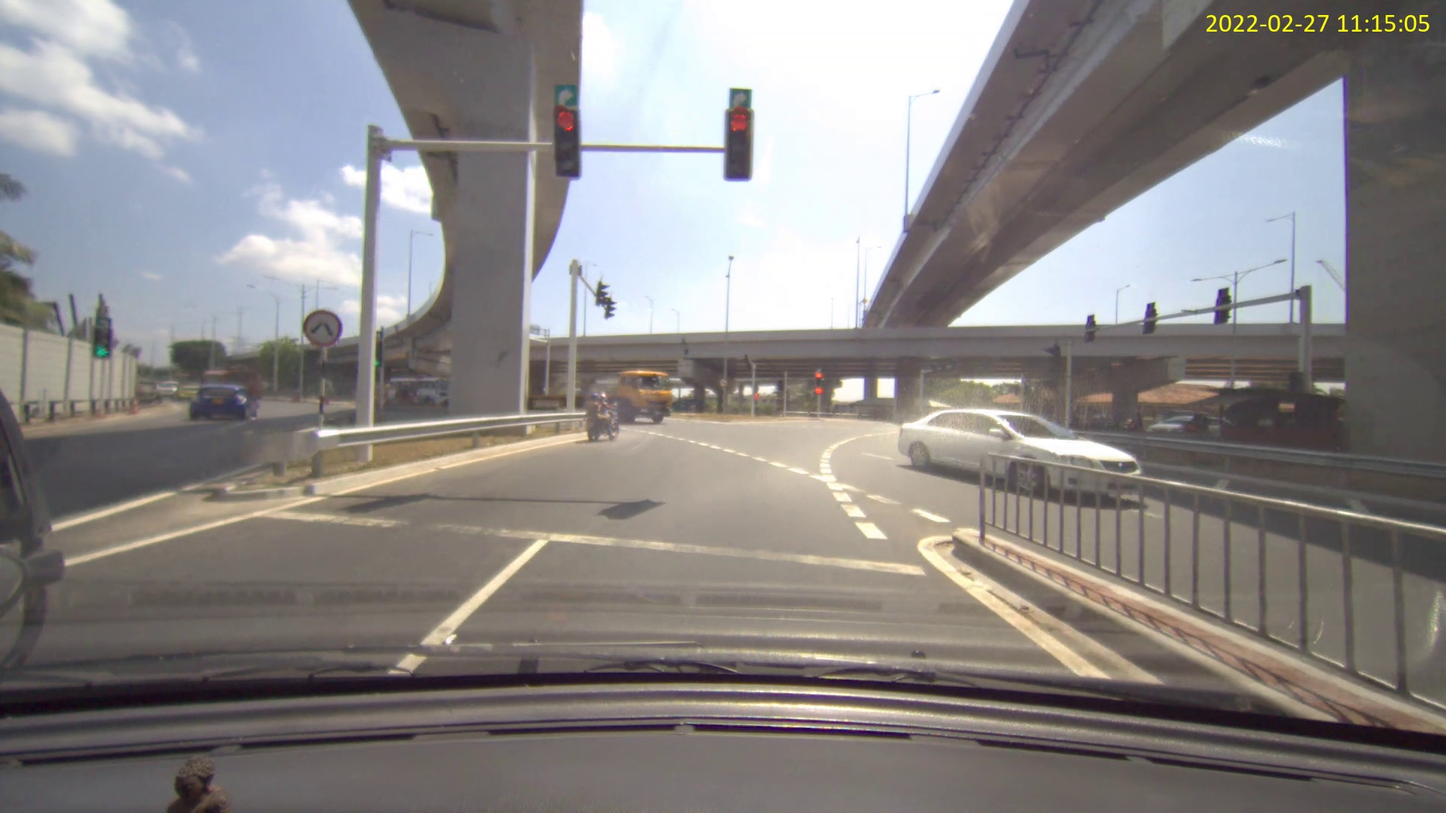green: (92, 326, 111, 358), (814, 387, 823, 394)
